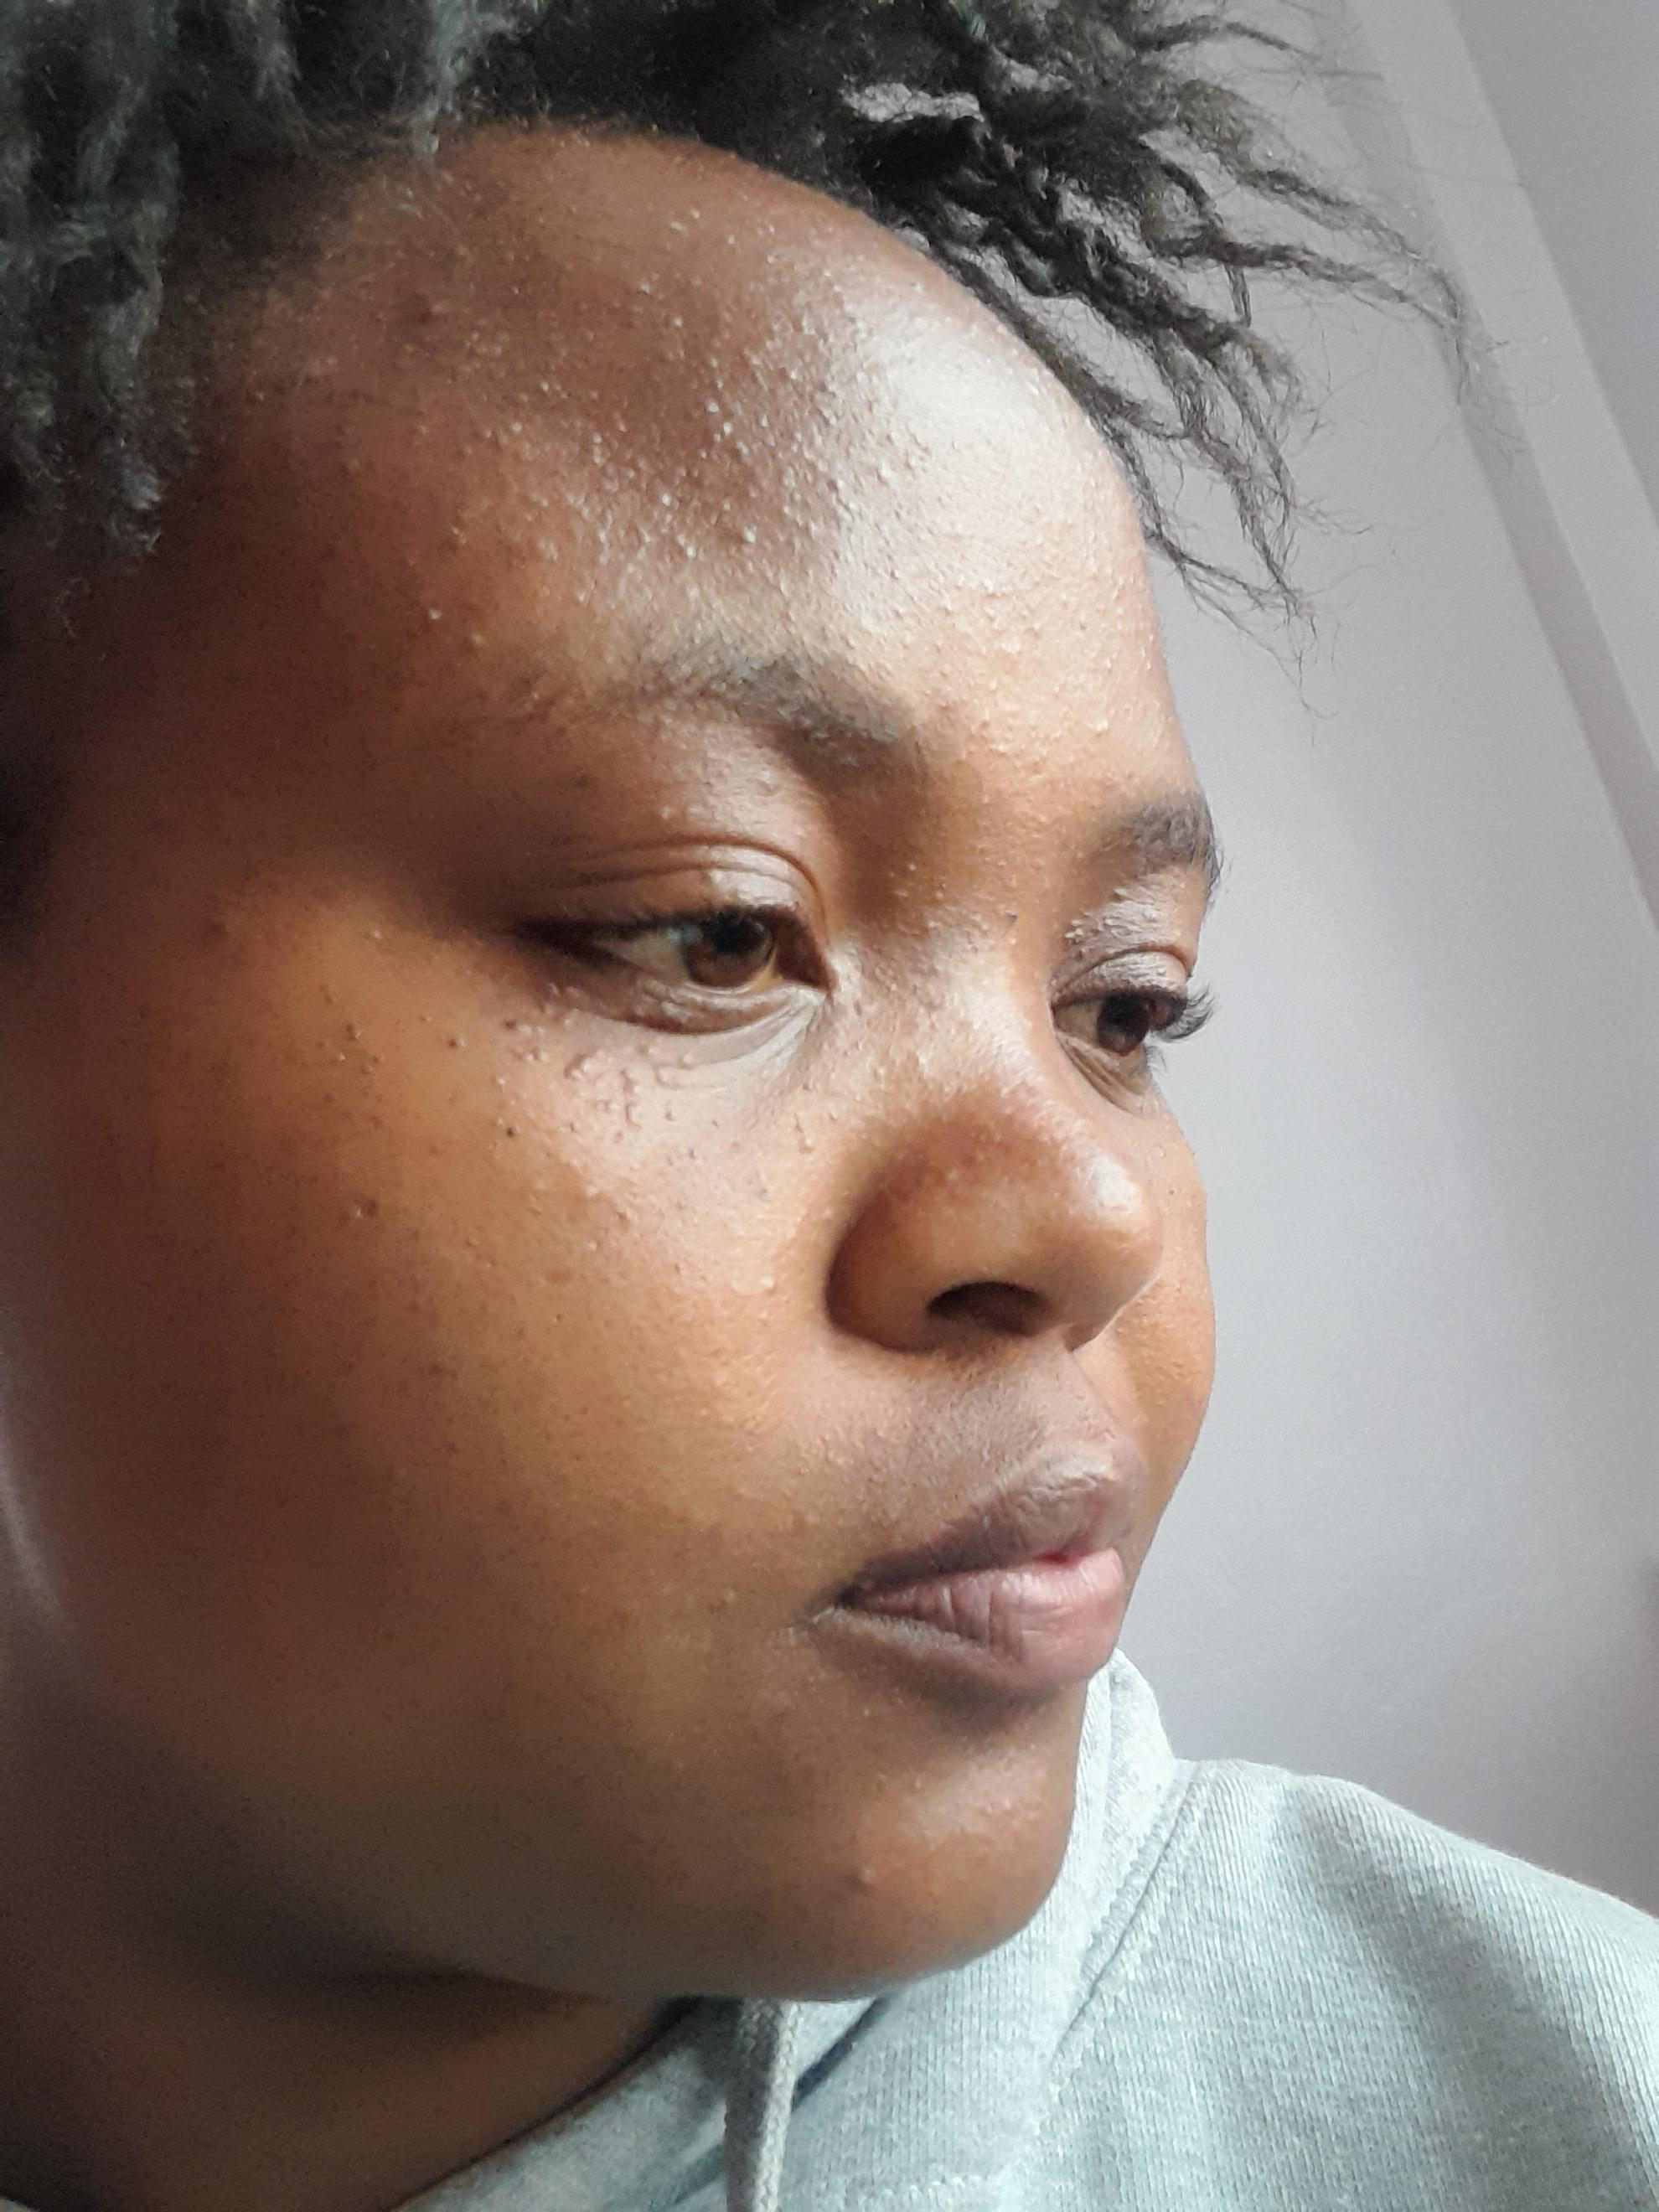Acne: (934, 1122, 1012, 1188), (566, 491, 624, 570), (735, 345, 816, 395), (587, 430, 652, 489), (601, 1068, 647, 1148), (613, 531, 657, 611), (777, 470, 821, 540), (770, 1204, 836, 1249), (957, 906, 1023, 951), (458, 314, 514, 366), (493, 517, 556, 563), (760, 411, 814, 463), (629, 489, 706, 526), (812, 611, 878, 653), (704, 350, 741, 420), (457, 420, 526, 456), (507, 1010, 551, 1068), (535, 981, 584, 1031), (559, 1042, 613, 1083), (993, 366, 1051, 404), (910, 967, 945, 1029), (701, 423, 755, 463), (742, 559, 793, 601), (817, 373, 854, 430), (1091, 563, 1140, 604), (748, 1273, 782, 1331), (295, 348, 338, 392), (765, 307, 814, 345), (786, 1111, 821, 1162), (652, 1050, 695, 1090), (906, 423, 939, 475), (884, 860, 920, 907), (706, 296, 742, 343), (1061, 909, 1094, 956), (1080, 469, 1101, 542), (660, 206, 702, 237), (575, 294, 599, 345), (648, 801, 711, 820), (864, 361, 889, 409), (1136, 625, 1159, 676), (830, 500, 863, 533), (413, 296, 446, 327), (537, 331, 570, 362), (563, 583, 598, 613), (338, 453, 369, 484), (845, 423, 875, 456), (519, 484, 552, 514), (537, 378, 573, 404), (671, 531, 701, 563), (786, 1505, 817, 1534), (993, 636, 1028, 662), (709, 495, 739, 524), (362, 921, 392, 951), (444, 519, 472, 550), (828, 545, 852, 580), (406, 420, 441, 444), (425, 603, 451, 634), (678, 582, 709, 608), (734, 526, 769, 549), (504, 380, 533, 406), (667, 462, 706, 481), (821, 472, 849, 498), (753, 773, 782, 798), (971, 575, 1000, 599), (870, 1057, 894, 1085), (824, 273, 847, 303), (871, 456, 897, 481), (633, 273, 655, 301), (1091, 712, 1114, 738), (847, 314, 868, 341), (612, 406, 631, 435), (1105, 885, 1134, 904), (666, 312, 690, 334), (465, 632, 491, 653), (579, 1181, 603, 1202), (741, 481, 762, 505), (683, 272, 706, 293), (897, 631, 918, 651), (664, 350, 690, 366), (634, 1042, 657, 1059), (688, 1141, 702, 1165), (660, 1106, 678, 1125), (758, 249, 775, 268), (910, 277, 924, 300), (721, 228, 739, 246), (884, 427, 899, 446), (938, 601, 957, 617), (983, 606, 1002, 622), (892, 604, 906, 620), (938, 698, 951, 714), (890, 566, 903, 583)
Eyebags: (479, 988, 843, 1101)
